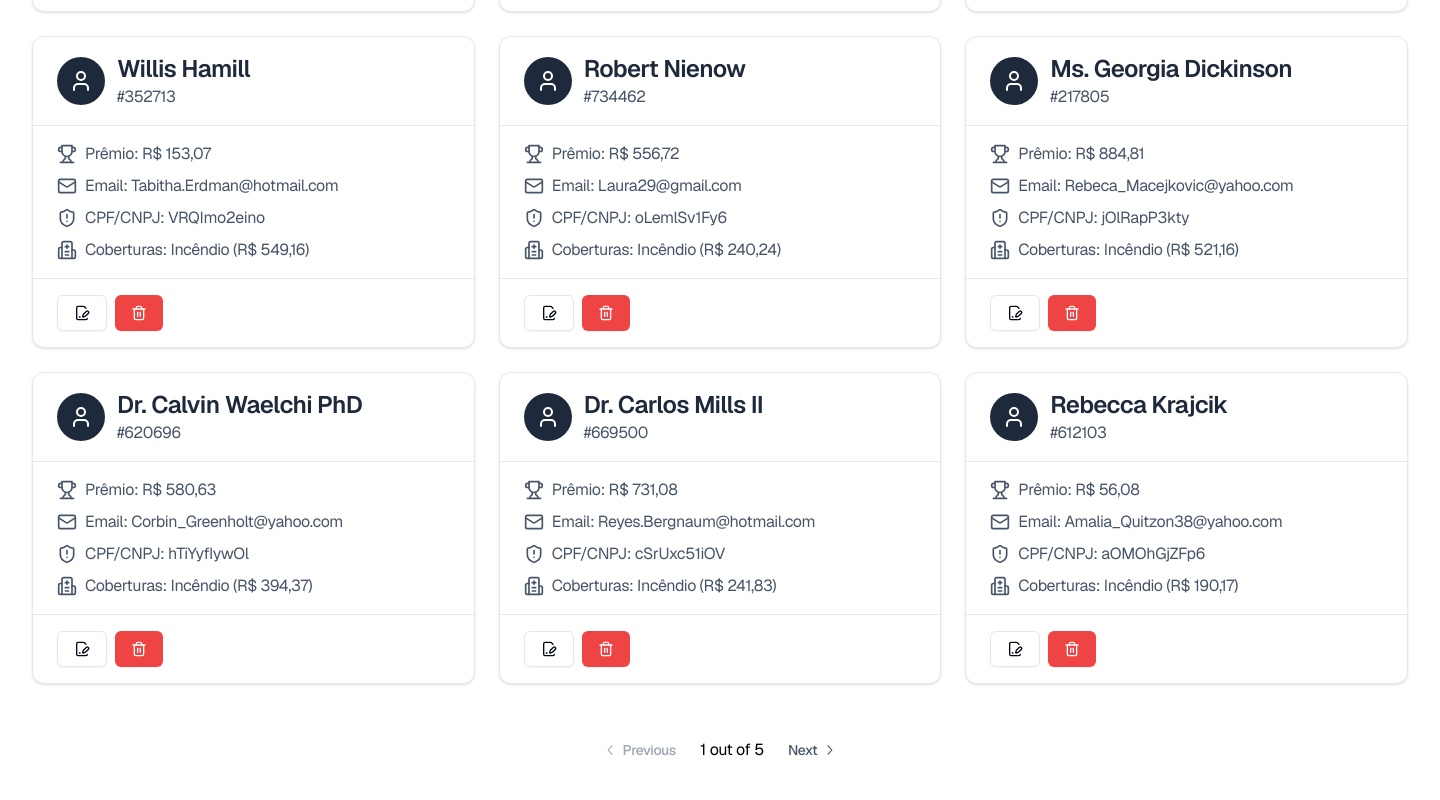
Test: pagination › should move to next page
(page scrolled)
Click the link with test id "pagination-next" at (813, 750), box [788,741,838,759]
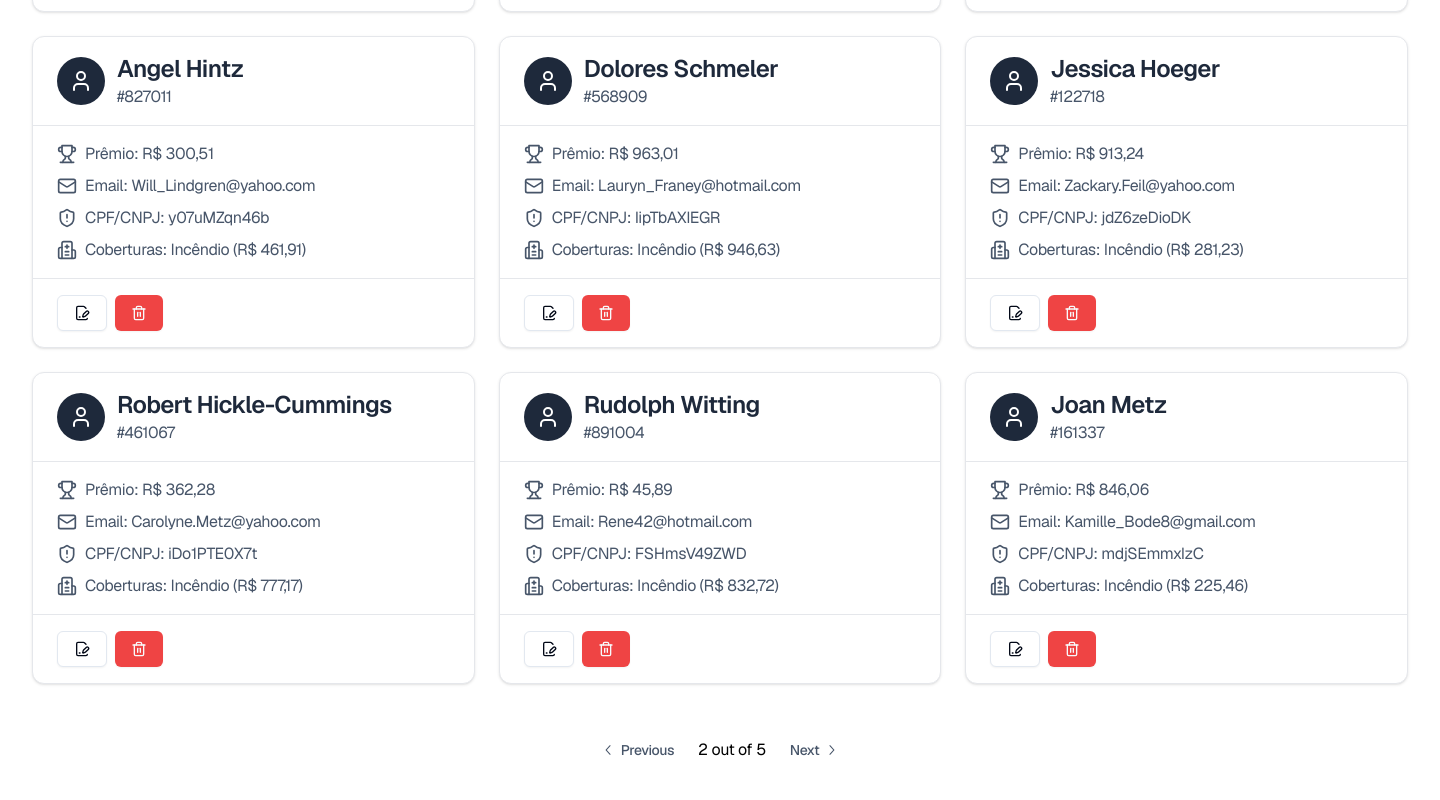
expect the text with test id "pagination-current-page" reads "2": met, box [698,738,708,762]
